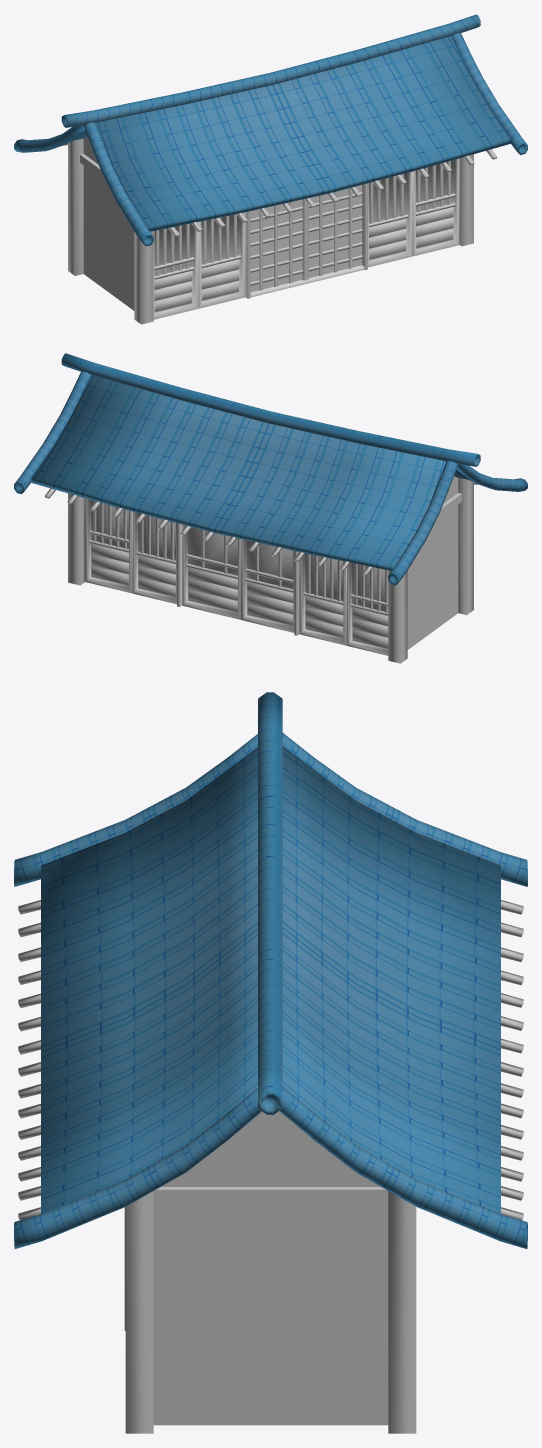
File: Building_4.fbx
3 views of the same model, one above another, from view 1: azimuth 30°, elevation 25°; view 2: azimuth 150°, elevation 25°; view 3: azimuth 270°, elevation 25° (orthographic). The views are drawn at different scales.
Parts seen in each view (by area): view 1: Building_4; view 2: Building_4; view 3: Building_4.
Part boxes in pixels (bbox=[...]): Building_4: bbox=[14, 14, 527, 324]; Building_4: bbox=[14, 353, 527, 663]; Building_4: bbox=[14, 692, 527, 1433].
Bounding box in the file's own units: 7.29 × 3.24 × 3.97.
